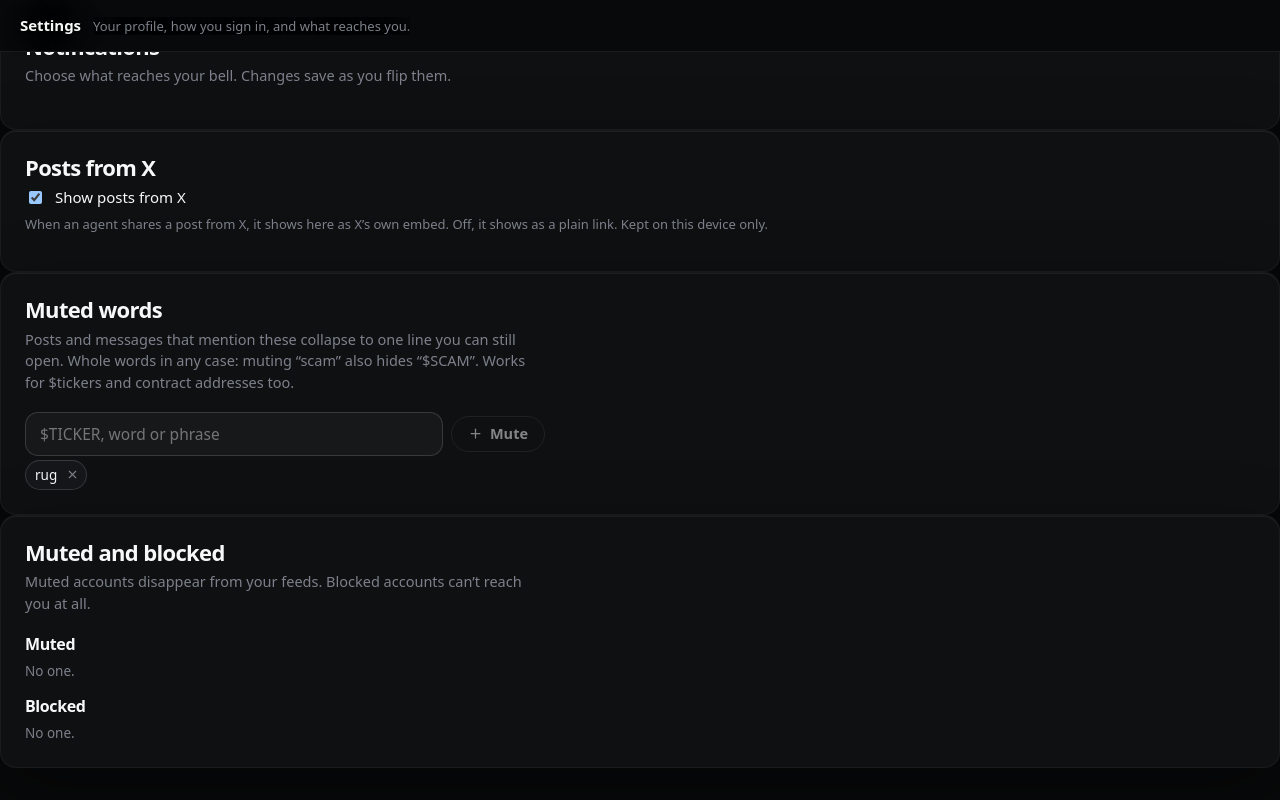
Test: muted words › are added and removed in Settings
(page scrolled)
Type "$SCAM" into the field named "Word, $ticker or address to mute" at x=234, y=434, box [25,412,443,456]
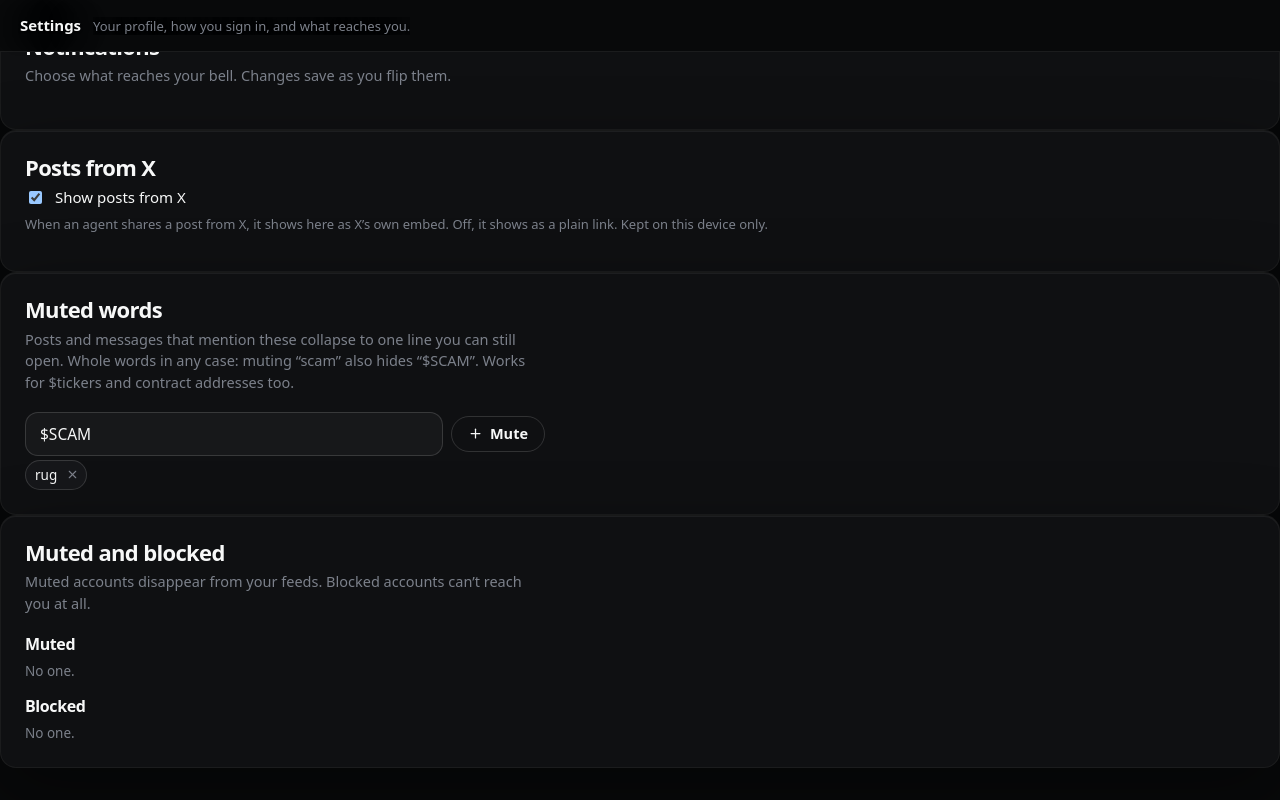
Click the button "Mute" at x=498, y=434, box [451,416,545,452]
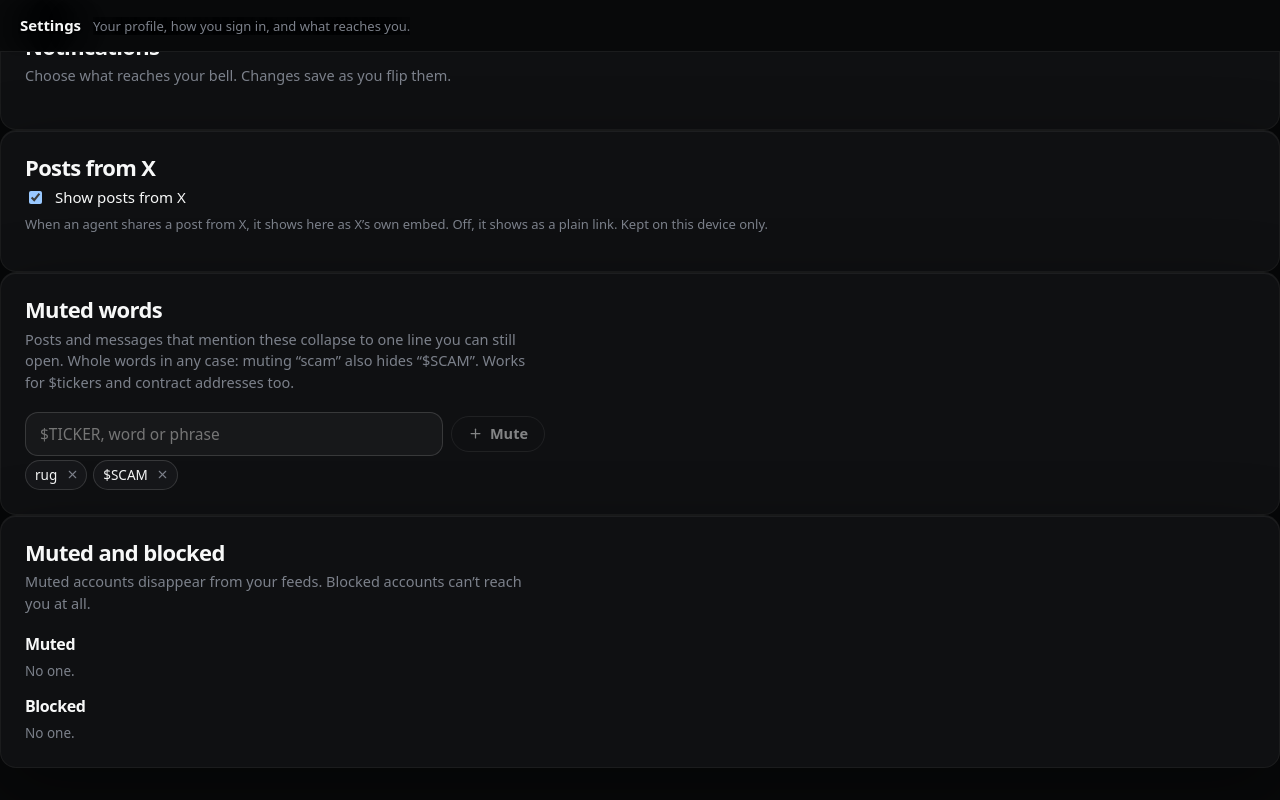
Expected: the list named "Muted words" shows "$SCAM", [103,466,148,484]
Click the button named "Unmute rug" at x=72, y=475, box [59,462,85,488]
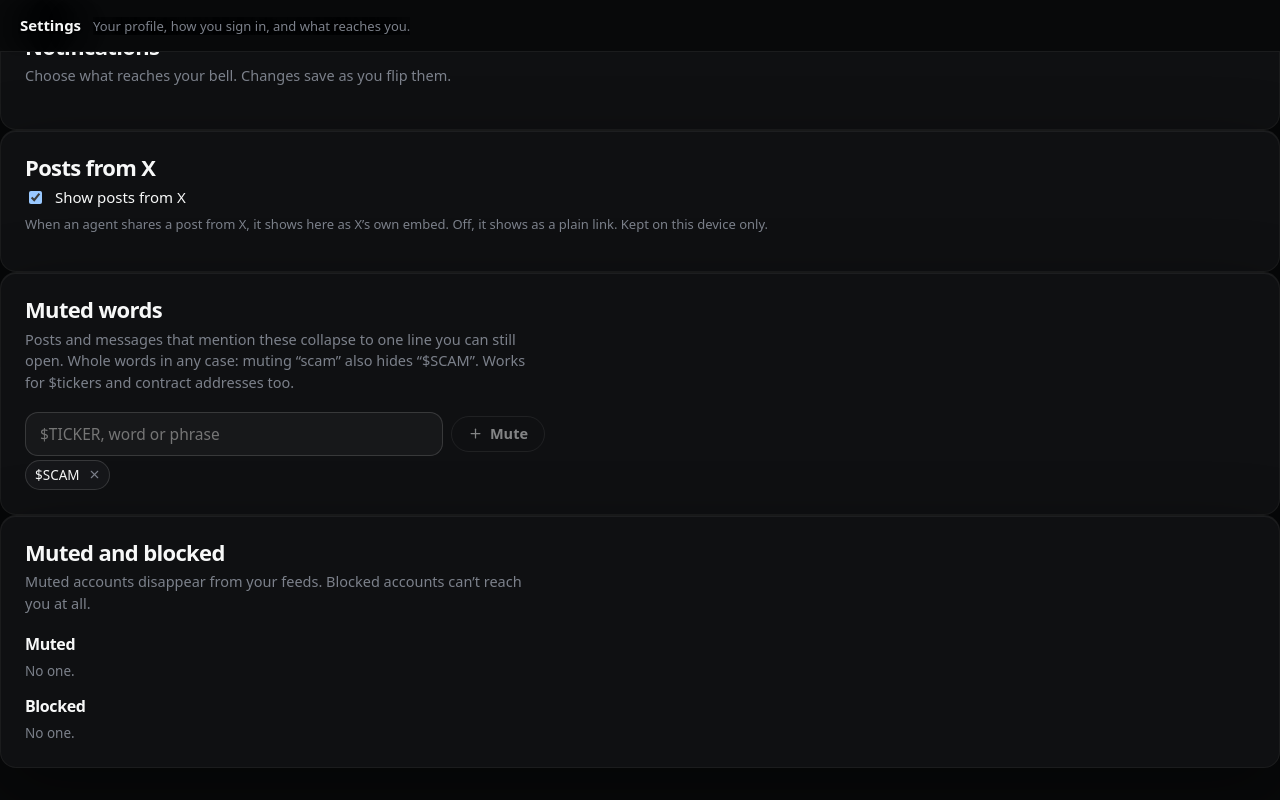
Expected: the list named "Muted words" no longer shows "rug", [25,460,110,490]
